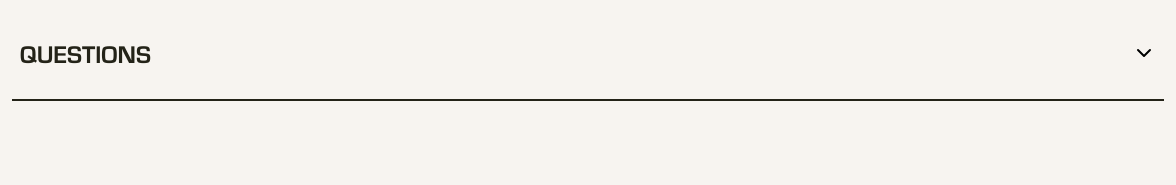
Test case: expands and collapses with an accessible button
Click the button "Questions": [85, 55] box [12,12,1164,99]
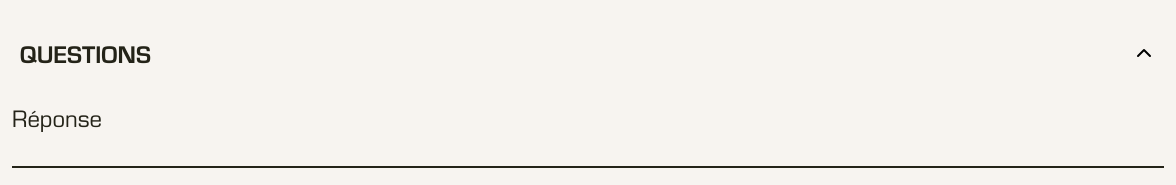
Now the button "Questions" is expanded
Click the button "Questions": [85, 55] box [12,12,1164,99]
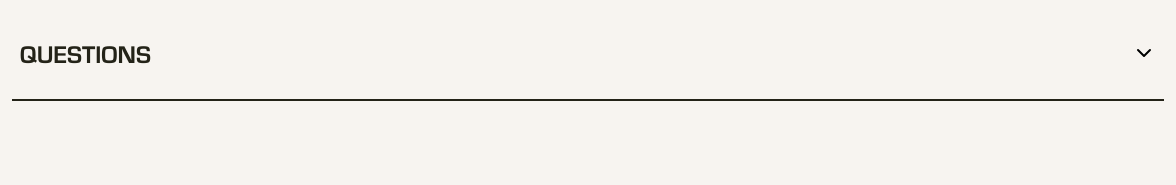
Now the button "Questions" is collapsed, box [12,12,1164,99]
